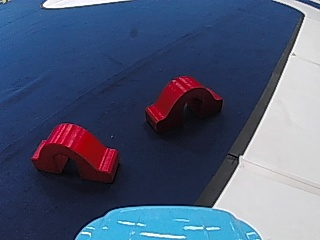bridge: (28, 119, 112, 179), (142, 74, 223, 133)
